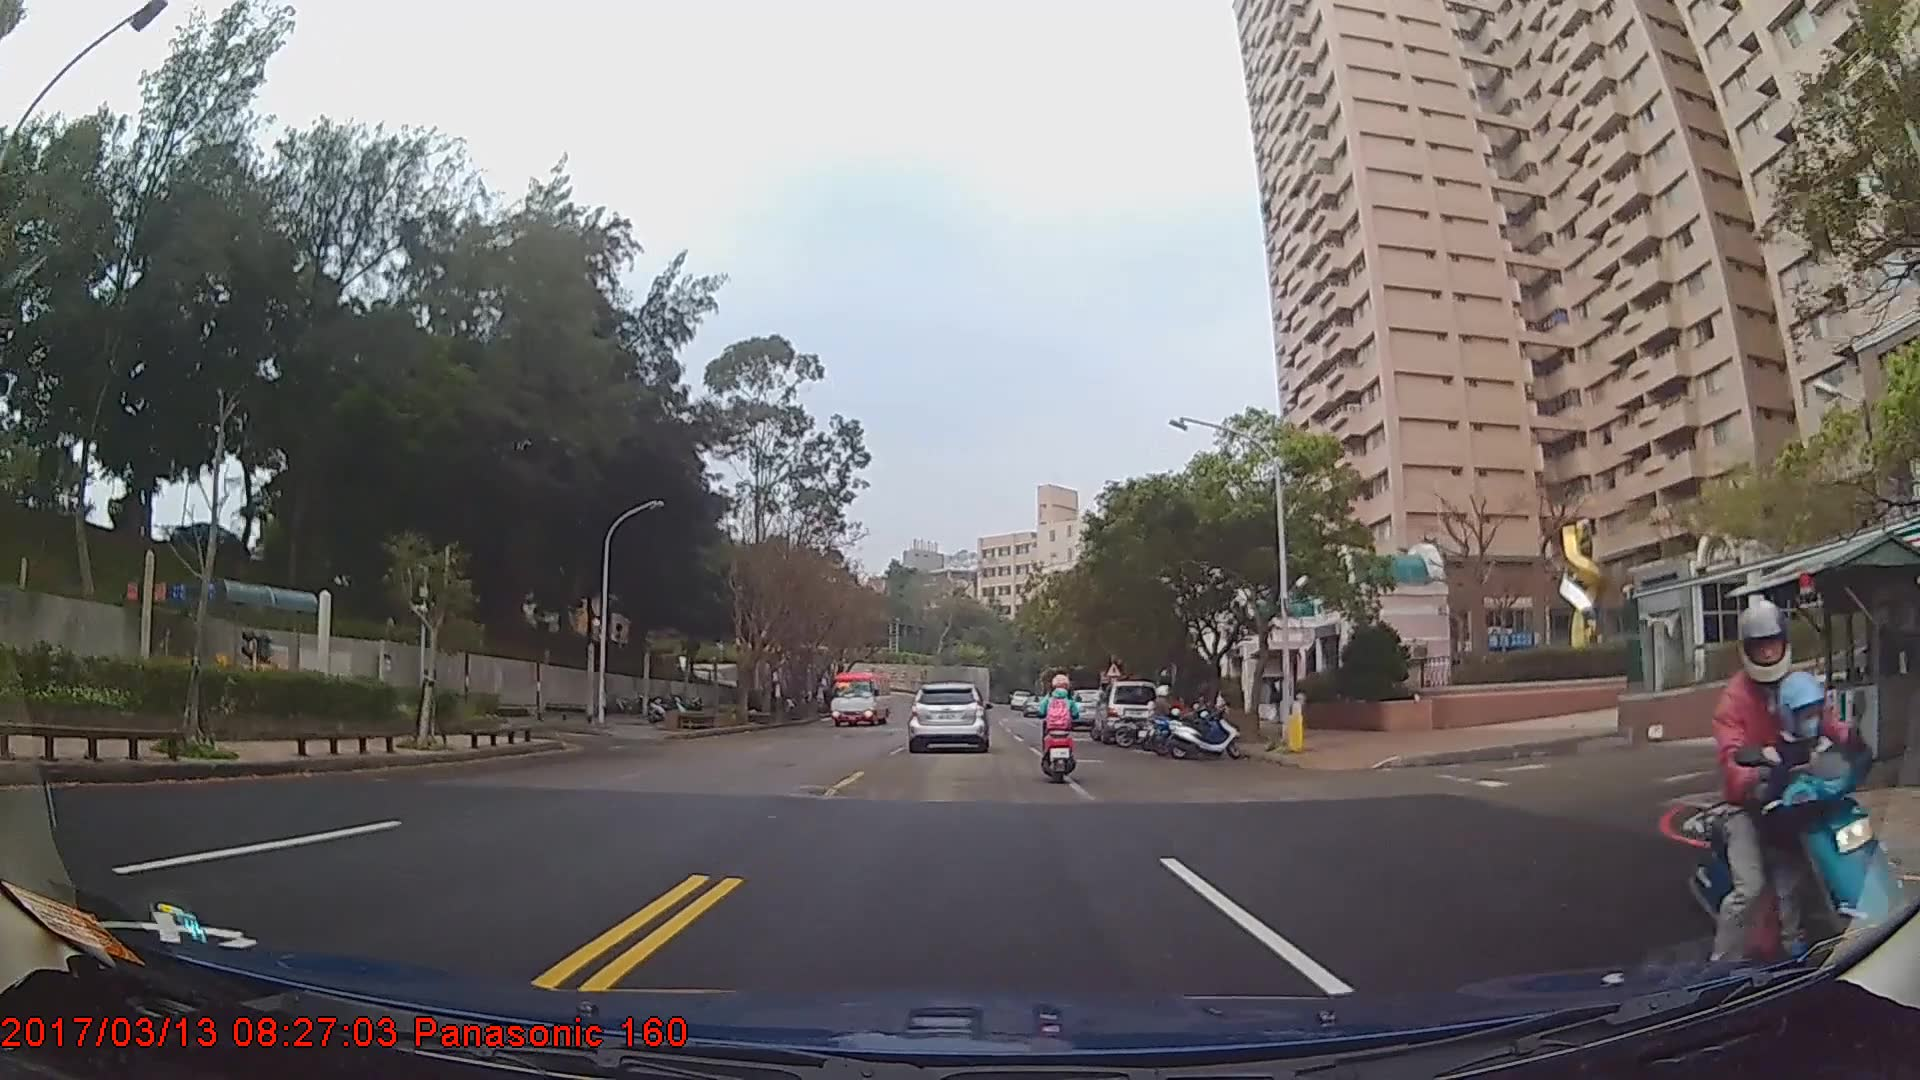rider: (1688, 601, 1909, 983), (1035, 666, 1081, 786), (1137, 682, 1182, 750)
vehicle: (906, 679, 987, 749), (1089, 679, 1156, 743), (825, 667, 888, 725)
